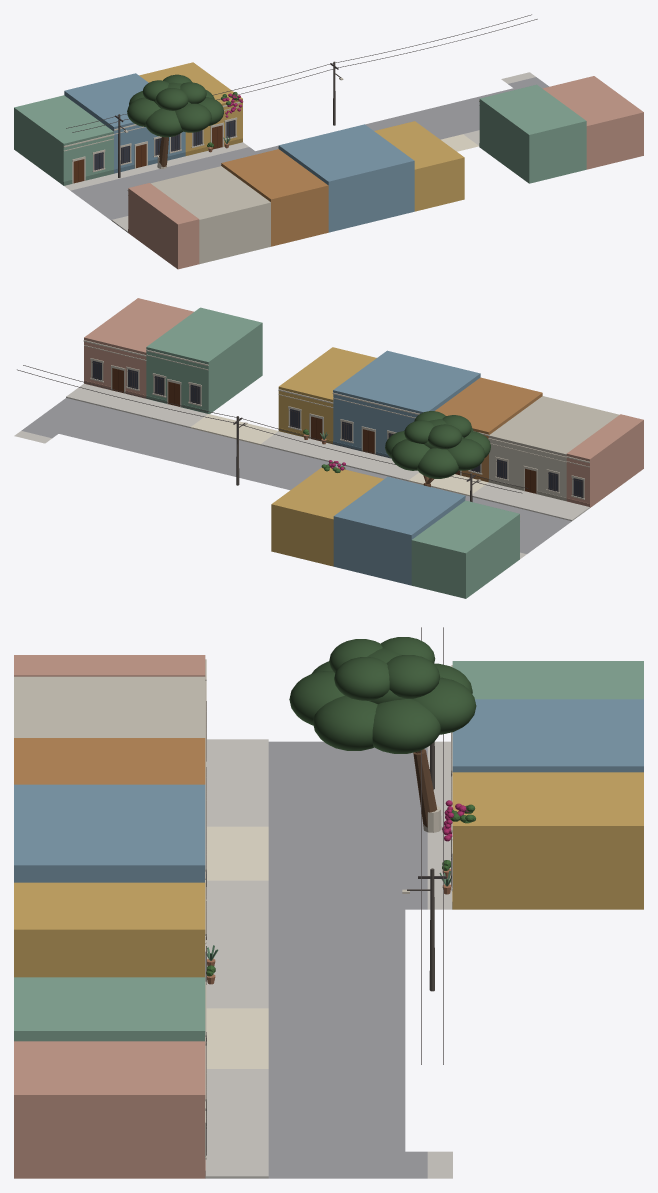
The model's file is calle.glb.
The picture shows the model from 3 angles, top to bottom: view 1: azimuth 30°, elevation 25°; view 2: azimuth 150°, elevation 25°; view 3: azimuth 270°, elevation 25°; orthographic projection. The views are drawn at different scales.
Visible parts, largest first — view 1: calle_fachadas, calle_arroyo, calle_laurel_copa, calle_banqueta, calle_herreria, calle_pasta; view 2: calle_fachadas, calle_arroyo, calle_banqueta, calle_laurel_copa, calle_pasta, calle_herreria; view 3: calle_fachadas, calle_arroyo, calle_banqueta, calle_laurel_copa, calle_pasta, calle_herreria, calle_laurel_tronco.
Boxes of the visible parts, x1,y1,x2,y2 form: calle_fachadas: (14,61,643,269); calle_arroyo: (70,77,549,220); calle_laurel_copa: (127,74,223,137); calle_banqueta: (64,72,535,232); calle_herreria: (66,14,537,170); calle_pasta: (441,134,478,151); calle_fachadas: (83,298,643,598); calle_arroyo: (21,398,571,553); calle_banqueta: (14,383,589,558); calle_laurel_copa: (385,411,490,478); calle_pasta: (190,414,488,496); calle_herreria: (17,361,582,497); calle_fachadas: (14,655,643,1178); calle_arroyo: (268,741,427,1178); calle_banqueta: (205,739,452,1178); calle_laurel_copa: (289,637,476,753); calle_pasta: (206,826,268,1068); calle_herreria: (206,627,451,1155); calle_laurel_tronco: (413,749,437,827).
Bounding box in the file's own units: 65 × 12.42 × 39.6.
